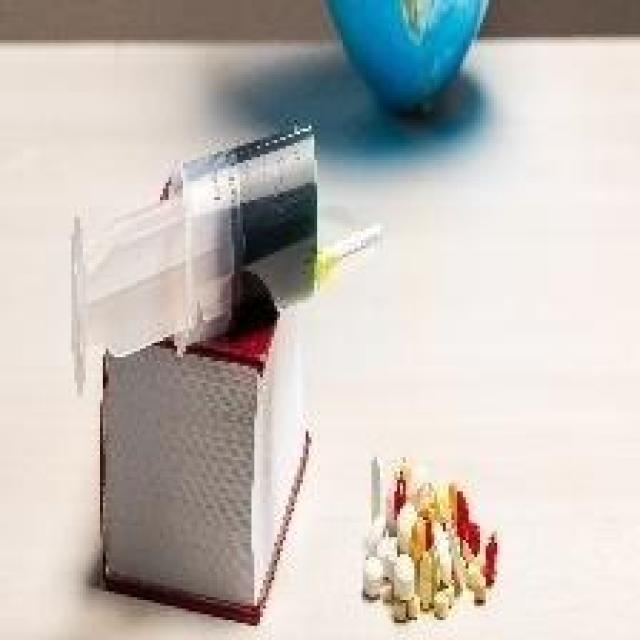syringe: (81, 137, 377, 376)
